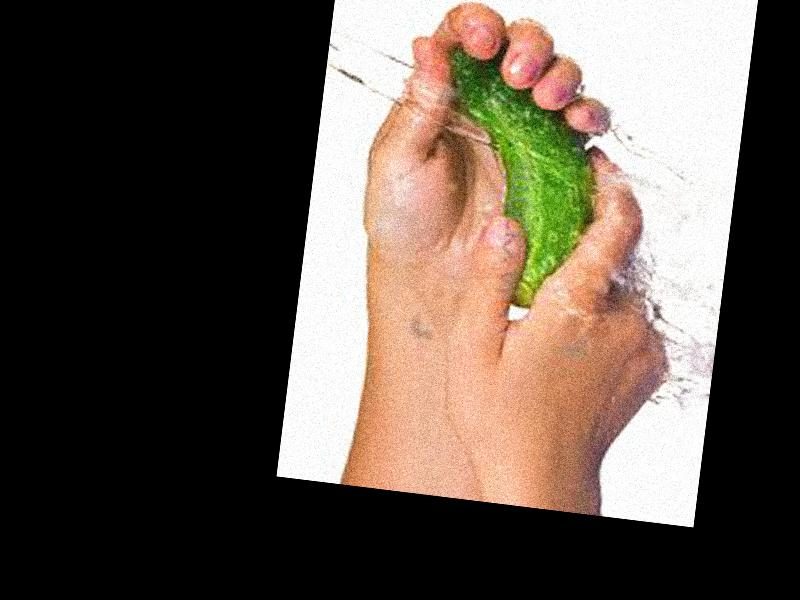Cucumber: (421, 44, 614, 317)
